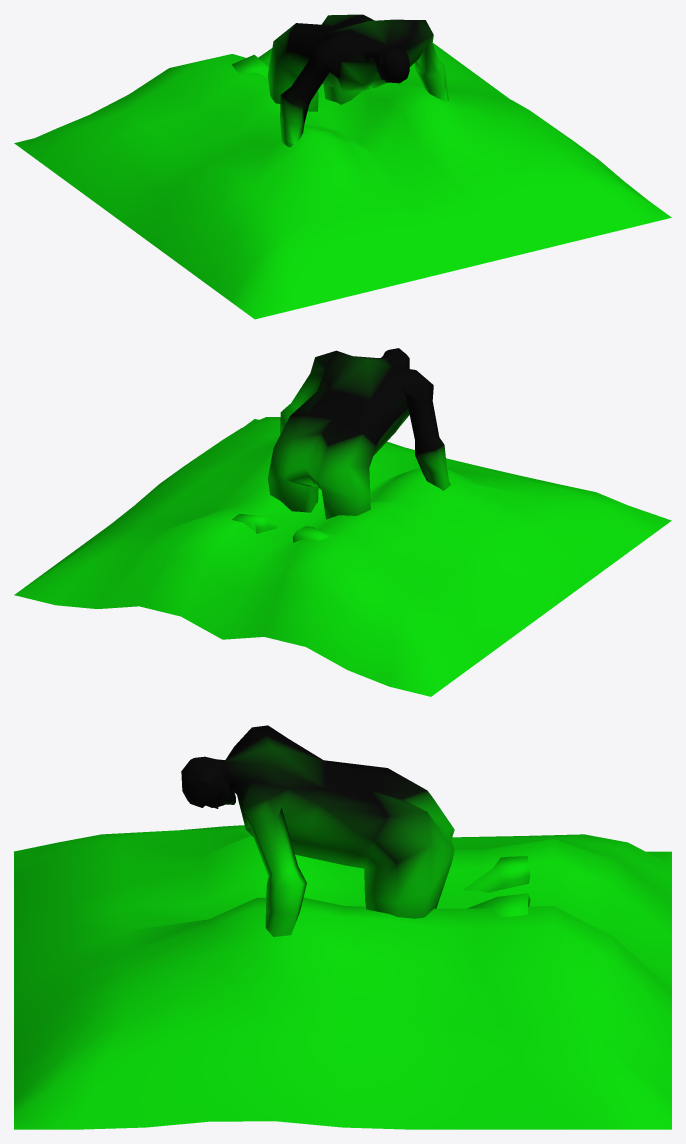
Rendered from ColossalPaths2Model.fbx.
The picture shows the model from 3 angles, top to bottom: view 1: azimuth 30°, elevation 25°; view 2: azimuth 150°, elevation 25°; view 3: azimuth 270°, elevation 25°; orthographic projection. The views are drawn at different scales.
Visible parts, largest first — view 1: Colossal_Paths.001; view 2: Colossal_Paths.001; view 3: Colossal_Paths.001.
Boxes of the visible parts, left/top/right/bottom form: Colossal_Paths.001: left=14, top=14, right=671, bottom=319; Colossal_Paths.001: left=14, top=348, right=671, bottom=696; Colossal_Paths.001: left=14, top=725, right=671, bottom=1129.
Bounding box in the file's own units: 16257 × 6650 × 16257.
